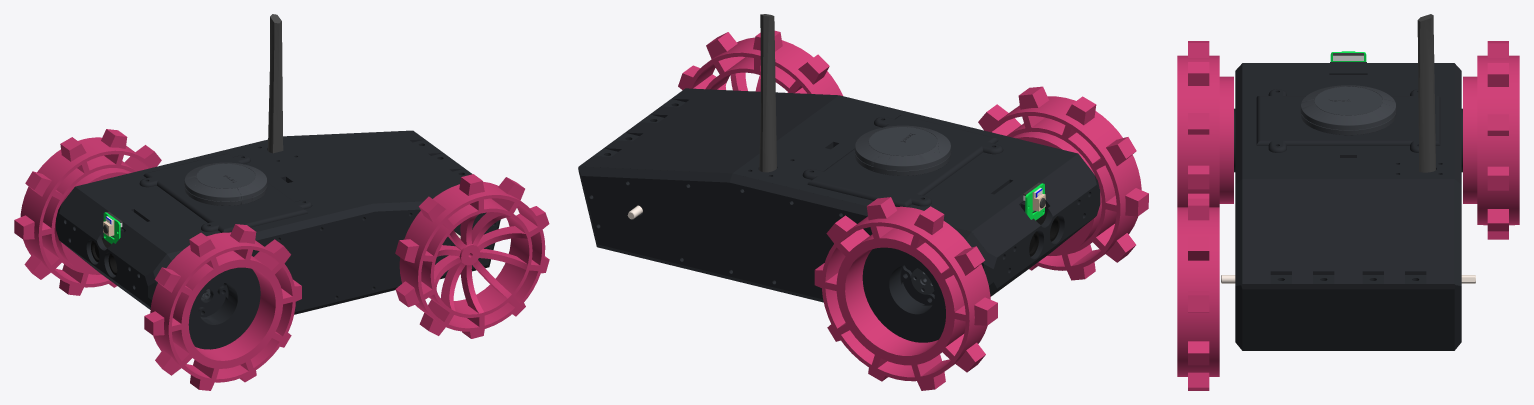
3 renders of one model, left to right at view 1: azimuth 30°, elevation 25°; view 2: azimuth 150°, elevation 25°; view 3: azimuth 270°, elevation 25°, orthographic. The views are drawn at different scales.
Visible parts, largest first — view 1: top_frame-1, tread_gear-1, free_wheel-1, left_cover-1, free_wheel-2, lid-1, bearing retainer-1, front_cover-1, Here4-1, ASUS Wireless USB AC56 Antenna-1, Arducam16MPCamera-1; view 2: top_frame-1, right_cover-1, free_wheel-2, free_wheel-1, lid-1, tread_gear-1, bearing retainer-2, front_cover-1, Here4-1, ASUS Wireless USB AC56 Antenna-1, Arducam16MPCamera-1; view 3: top_frame-1, bottom_frame-1, free_wheel-2, free_wheel-1, tread_gear-1, lid-1, Here4-1, ASUS Wireless USB AC56 Antenna-1, right_cover-1, left_cover-1, Arducam16MPCamera-1.
Boxes of the visible parts, x1,y1,x2,y2 form: top_frame-1: [61, 130, 472, 271]; tread_gear-1: [395, 174, 549, 338]; free_wheel-1: [144, 224, 301, 390]; left_cover-1: [153, 201, 500, 316]; free_wheel-2: [14, 129, 161, 295]; lid-1: [139, 153, 312, 232]; bearing retainer-1: [188, 267, 260, 349]; front_cover-1: [56, 204, 156, 307]; Here4-1: [184, 162, 267, 205]; ASUS Wireless USB AC56 Antenna-1: [268, 14, 283, 153]; Arducam16MPCamera-1: [103, 211, 122, 244]; top_frame-1: [579, 88, 1093, 251]; right_cover-1: [578, 166, 987, 304]; free_wheel-2: [814, 197, 997, 390]; free_wheel-1: [978, 86, 1148, 280]; lid-1: [802, 115, 1003, 207]; tread_gear-1: [678, 30, 842, 95]; bearing retainer-2: [862, 247, 945, 342]; front_cover-1: [984, 174, 1100, 293]; Here4-1: [854, 125, 951, 175]; ASUS Wireless USB AC56 Antenna-1: [759, 14, 776, 172]; Arducam16MPCamera-1: [1023, 182, 1045, 220]; top_frame-1: [1242, 63, 1454, 289]; bottom_frame-1: [1242, 289, 1454, 350]; free_wheel-2: [1463, 41, 1519, 239]; free_wheel-1: [1177, 41, 1233, 207]; tread_gear-1: [1177, 193, 1219, 390]; lid-1: [1256, 89, 1440, 152]; Here4-1: [1300, 85, 1396, 135]; ASUS Wireless USB AC56 Antenna-1: [1417, 14, 1435, 172]; right_cover-1: [1454, 63, 1461, 350]; left_cover-1: [1235, 63, 1242, 350]; Arducam16MPCamera-1: [1330, 51, 1366, 61].
Bounding box in the file's own units: 0.3735 × 0.243 × 0.242.
